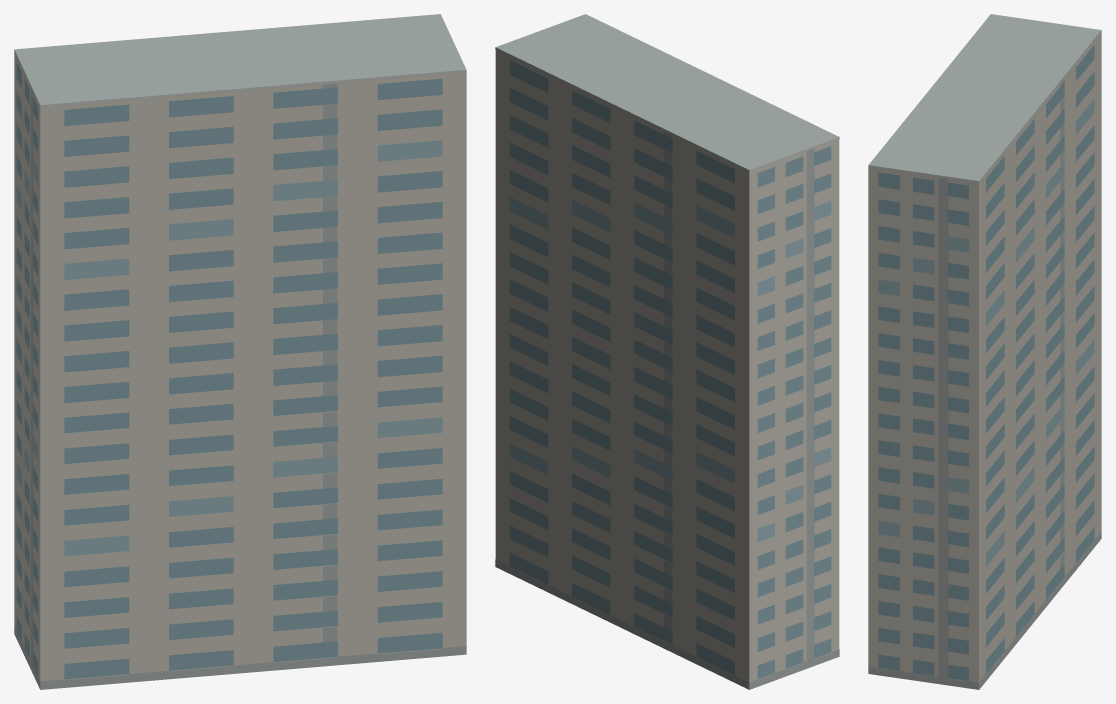
The model's file is residential-cf1ff120-d181-484f-987e-059352ce4bee.glb.
3 renders of one model, left to right at view 1: azimuth 30°, elevation 25°; view 2: azimuth 150°, elevation 25°; view 3: azimuth 270°, elevation 25°, orthographic. The views are drawn at different scales.
Visible parts, largest first — view 1: residential-cf1ff120-d181-484f-987e-059352ce4bee.tmp; view 2: residential-cf1ff120-d181-484f-987e-059352ce4bee.tmp; view 3: residential-cf1ff120-d181-484f-987e-059352ce4bee.tmp.
Part boxes in pixels (x1,y1,x2,y2): residential-cf1ff120-d181-484f-987e-059352ce4bee.tmp: (14, 14, 466, 689); residential-cf1ff120-d181-484f-987e-059352ce4bee.tmp: (495, 14, 839, 689); residential-cf1ff120-d181-484f-987e-059352ce4bee.tmp: (868, 14, 1101, 689).
Bounding box in the file's own units: 37.35 × 53 × 22.02.
